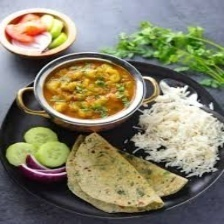sabzi: (41, 58, 139, 120)
